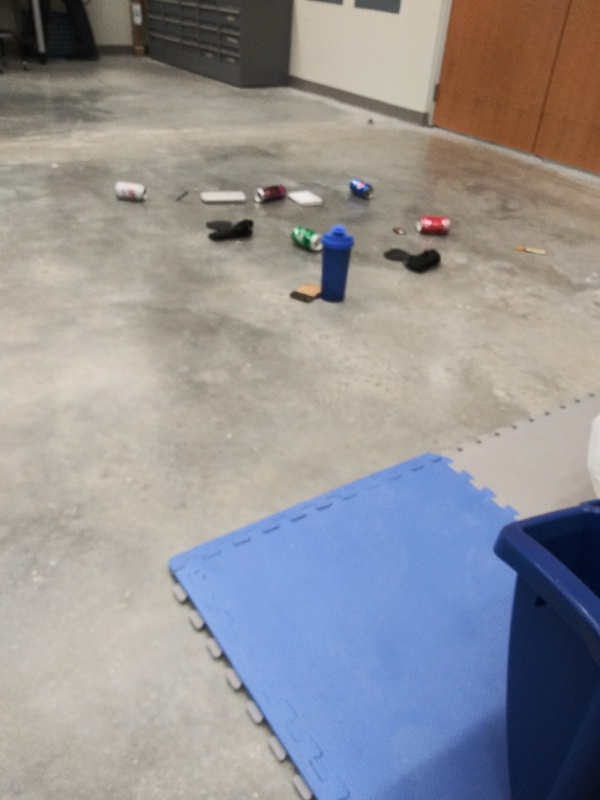can: (285, 223, 332, 256), (111, 176, 151, 205), (411, 213, 458, 236), (344, 175, 378, 205), (253, 181, 289, 208)
